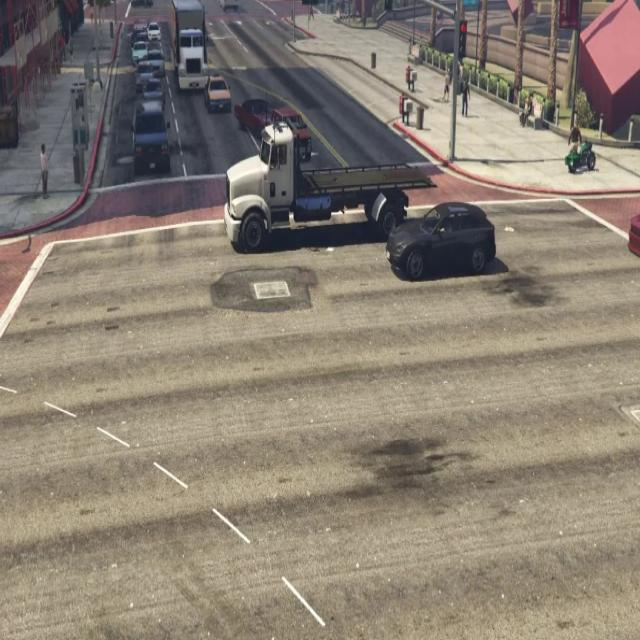Red-Signal: (456, 13, 471, 61), (299, 0, 321, 17), (382, 0, 396, 19)
